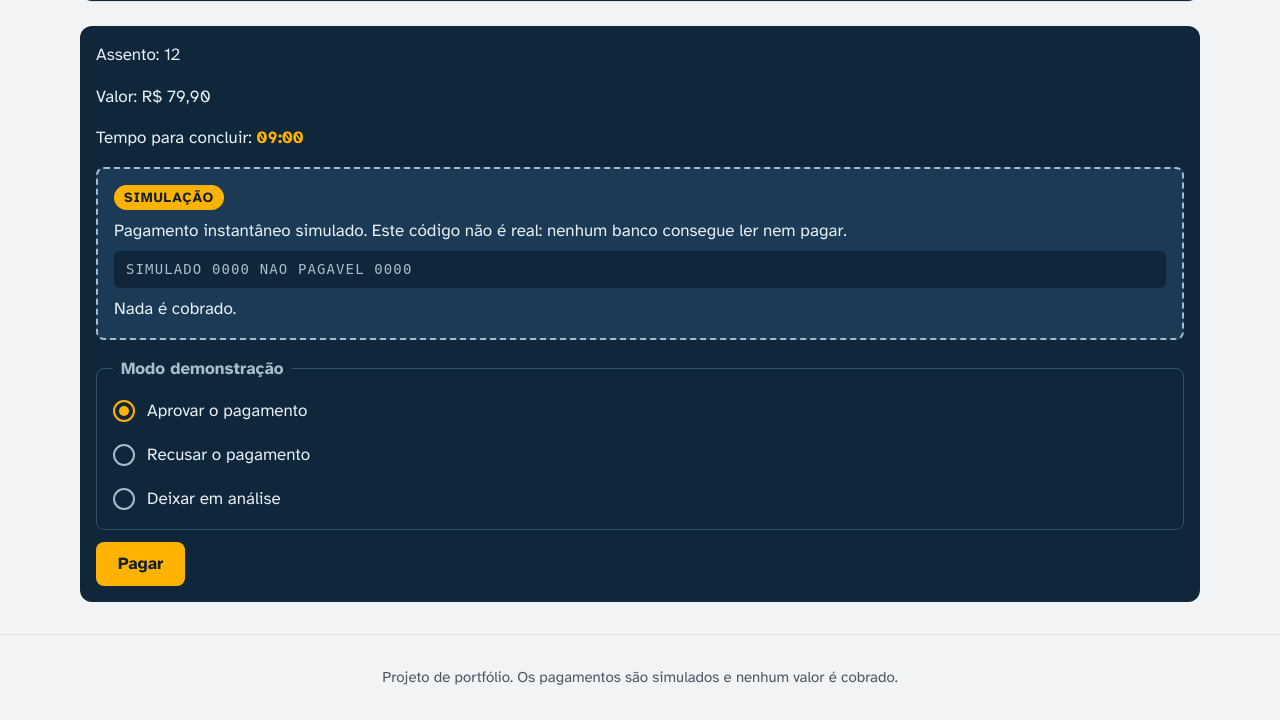
Test case: PaymentPage: resultado do pagamento › aprovado: mostra "Viagem confirmada" e tira o pagamento da tela
(page scrolled)
Click the button "Pagar".
click(141, 564)  # box x1=96 y1=542 x2=186 y2=586
(page scrolled)
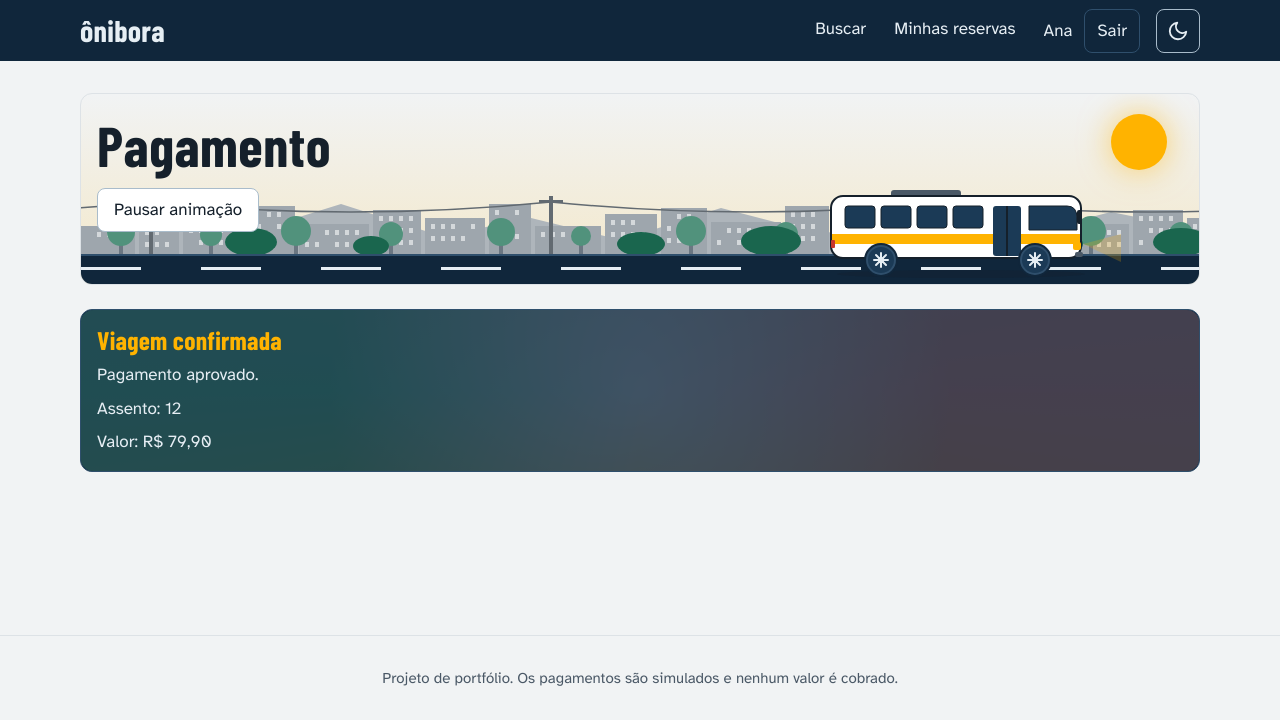
Now the heading "Viagem confirmada" is shown, box x1=97 y1=324 x2=282 y2=355
Now the message reads "Pagamento aprovado.", box x1=97 y1=364 x2=258 y2=385
Now the text "Pagar" is gone
